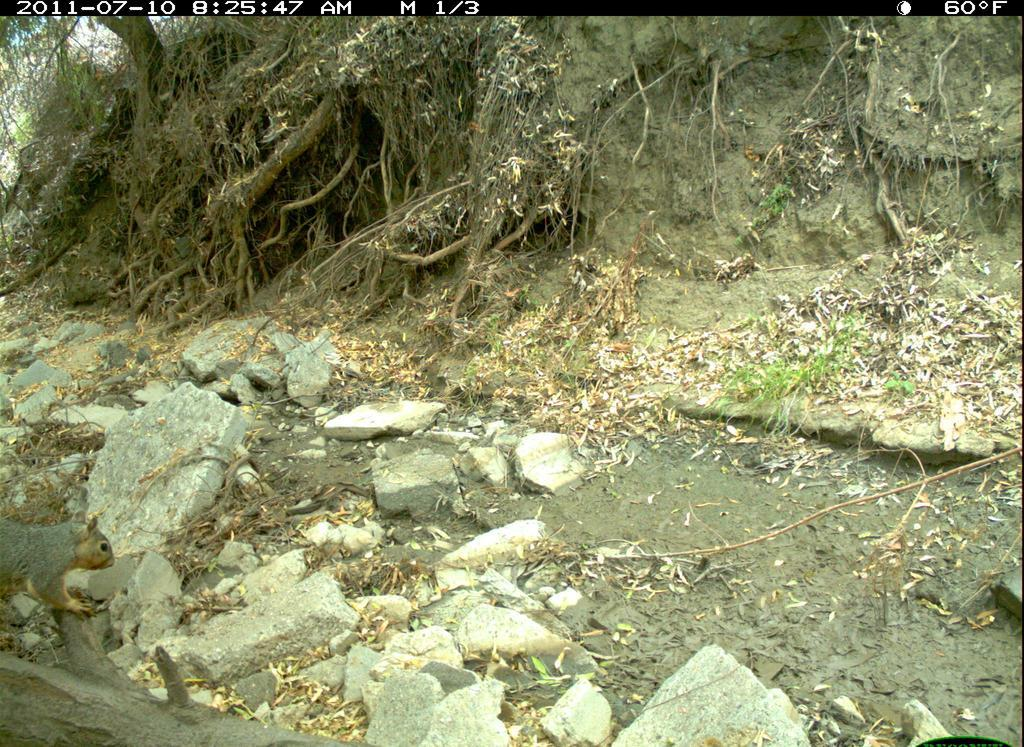squirrel: (1, 505, 124, 633)
